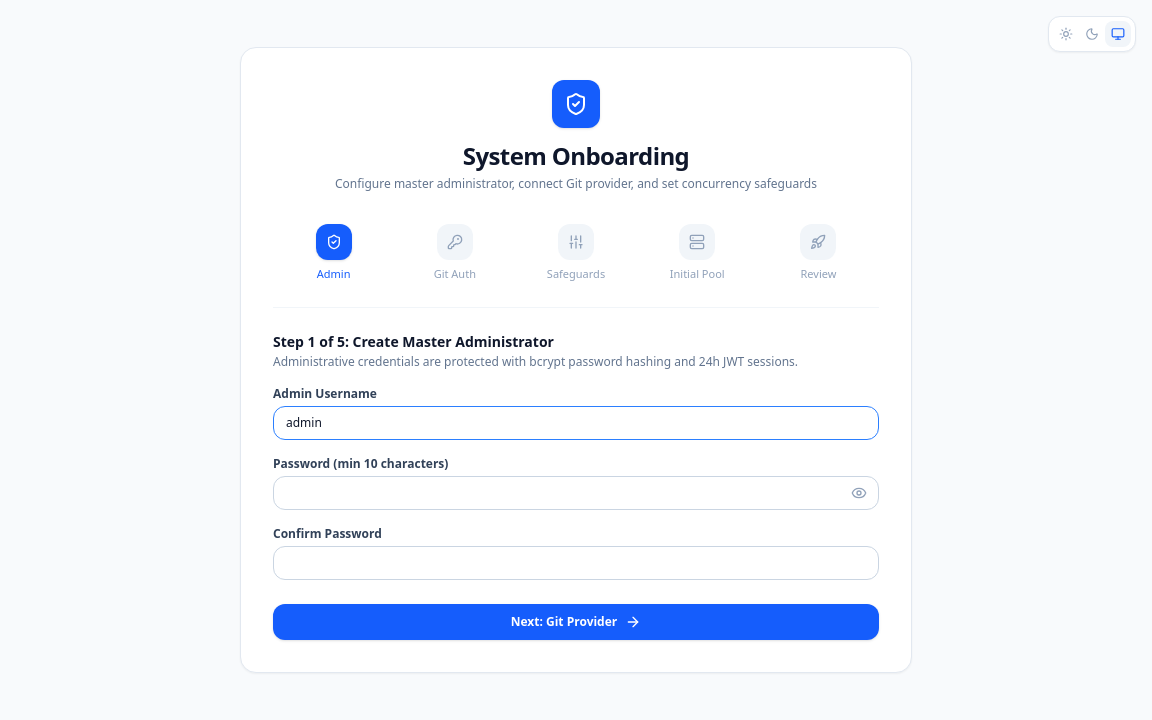
OnboardingPage (Full 5 Steps) › supports navigating back between steps using Back button
Type "validpassword123" into the password field labelled "Password (min 10 characters)". click: coordinates (576, 493)
box: [273,476,879,510]
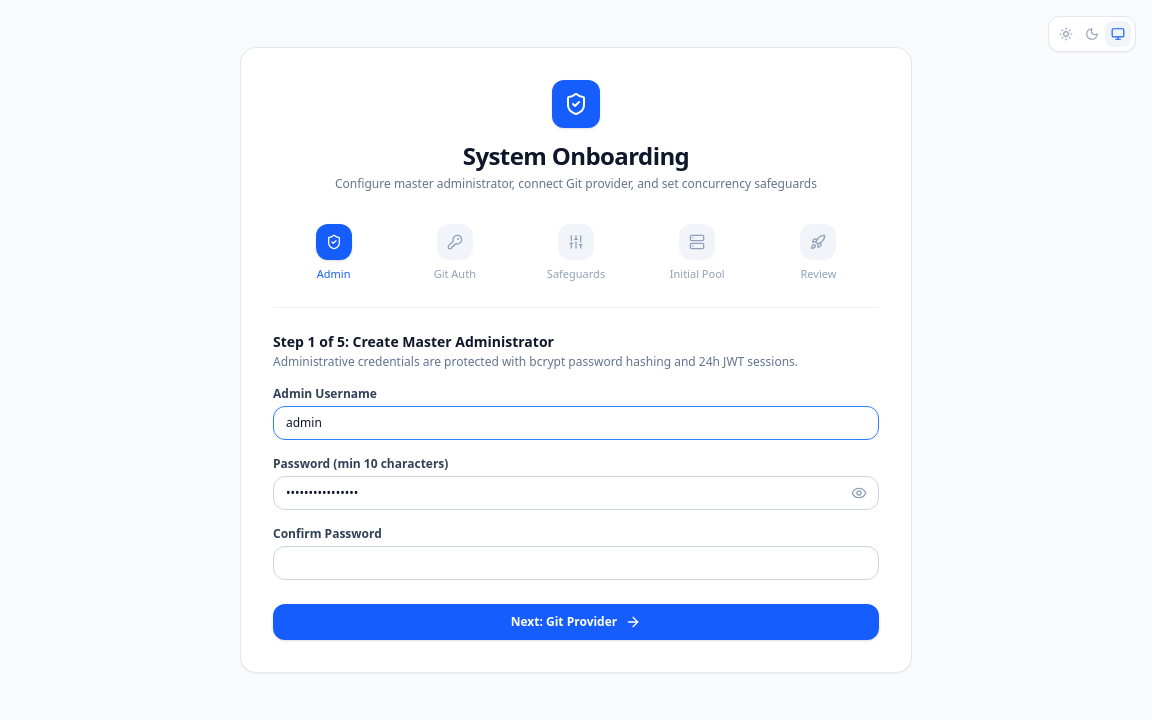
Type "validpassword123" into the password field labelled "Confirm Password". click: coordinates (576, 563)
box: [273,546,879,580]
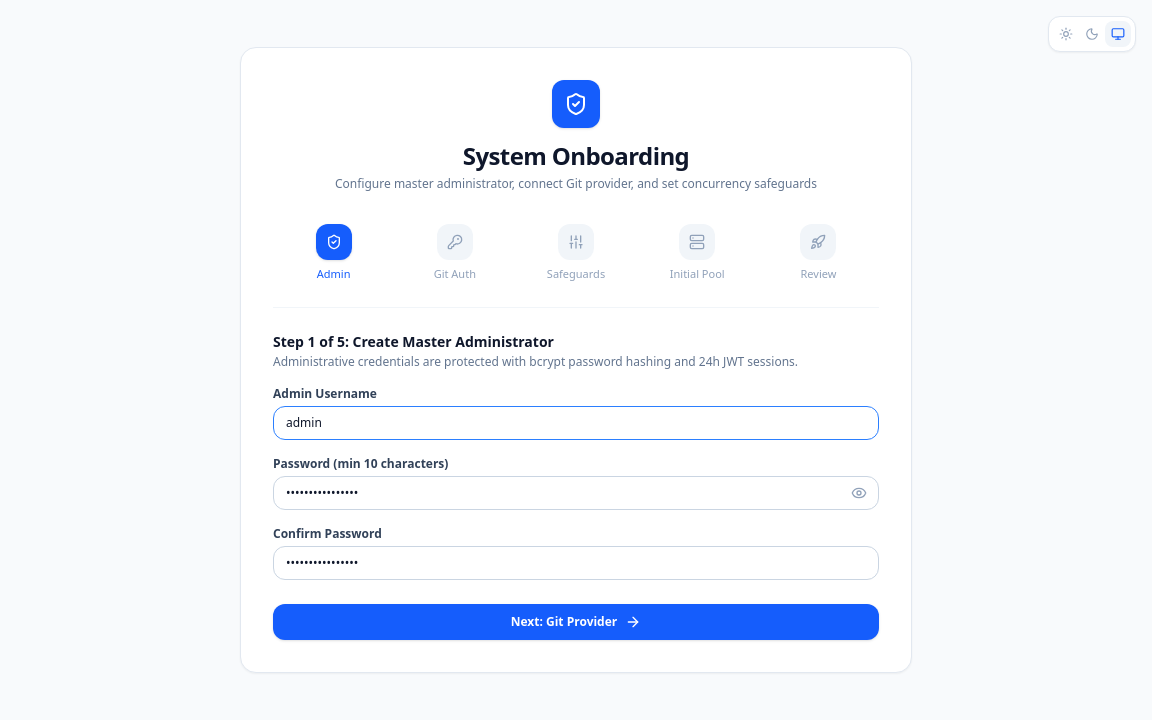
Click the button "Next: Git Provider". click: coordinates (576, 622)
box: [273,604,879,640]
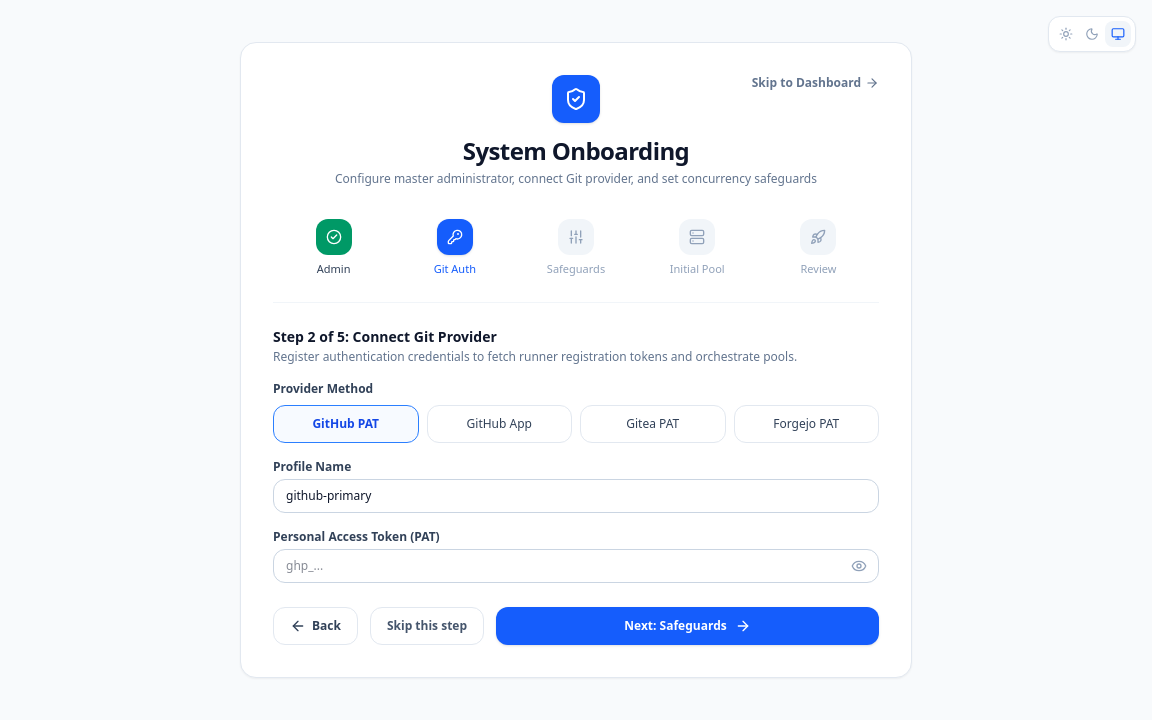
Expected: the heading "Step 2 of 5: Connect Git Provider" is shown, [273,327,497,346]
Click the button "Back". click: coordinates (315, 626)
box: [273,607,358,645]
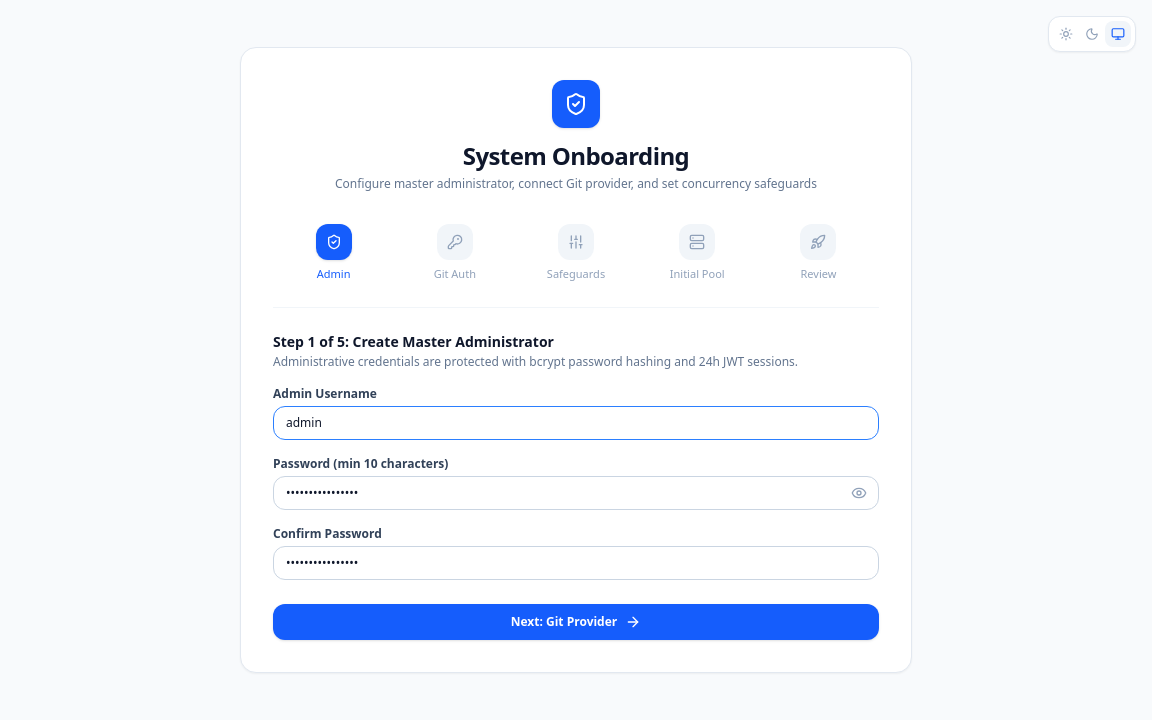
Expected: the heading "Step 1 of 5: Create Master Administrator" is shown, [273,332,554,351]
